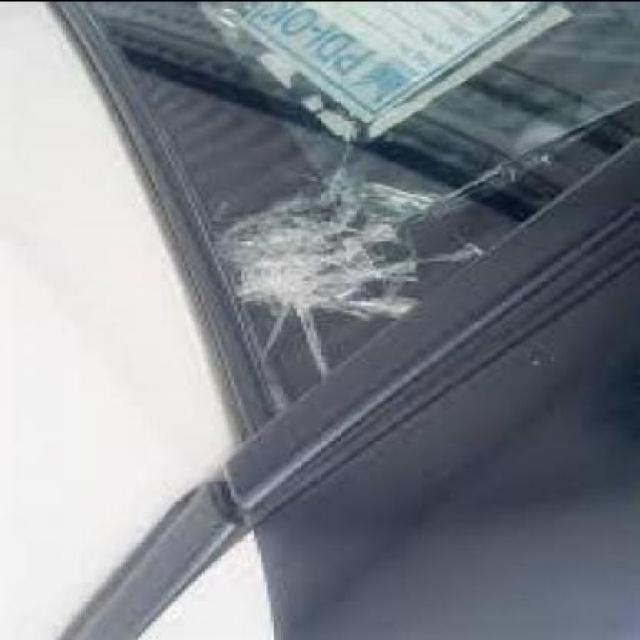damage: (218, 185, 419, 339)
